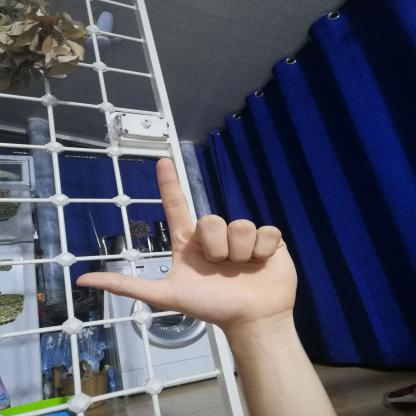LAAM: (54, 148, 315, 335)
